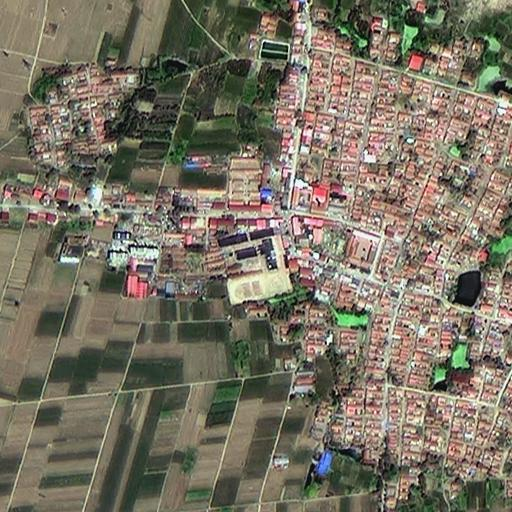school: (214, 226, 291, 306)
